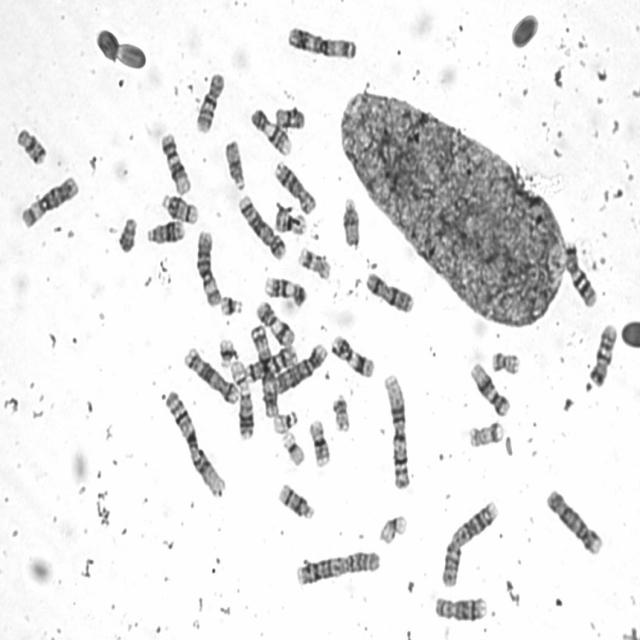A1: (162, 386, 227, 498), (381, 371, 412, 492)
A2: (438, 496, 501, 589), (293, 545, 381, 587)
A3: (248, 321, 280, 418), (284, 22, 358, 61)
B4: (543, 484, 605, 557), (272, 339, 328, 396)
B5: (235, 192, 287, 262), (182, 344, 240, 405)
C10: (582, 325, 618, 388), (193, 70, 226, 136)
C11: (330, 332, 376, 380), (253, 297, 296, 348)
C12: (468, 360, 511, 417), (158, 129, 192, 196)
C6: (19, 173, 80, 231), (194, 228, 222, 308)
C7: (563, 239, 598, 309), (243, 342, 299, 384)
C8: (272, 158, 317, 215), (432, 593, 488, 623)
C9: (247, 104, 293, 158), (263, 273, 308, 308)
D13: (236, 384, 256, 440), (144, 218, 185, 245)
D14: (276, 480, 316, 521), (159, 191, 199, 225)
D15: (223, 137, 246, 193), (340, 193, 362, 250)
E16: (307, 416, 332, 468), (272, 203, 308, 236)
E17: (295, 244, 332, 282), (467, 419, 504, 449)
E18: (14, 123, 48, 167), (274, 108, 306, 130)
F19: (376, 511, 410, 546), (280, 428, 306, 468)
F20: (331, 392, 351, 433), (490, 349, 520, 376)
G21: (218, 292, 244, 317), (217, 335, 235, 369)
G22: (270, 406, 299, 434), (228, 357, 251, 392)
X: (364, 270, 416, 315)
Y: (116, 214, 138, 254), (503, 432, 514, 457)
